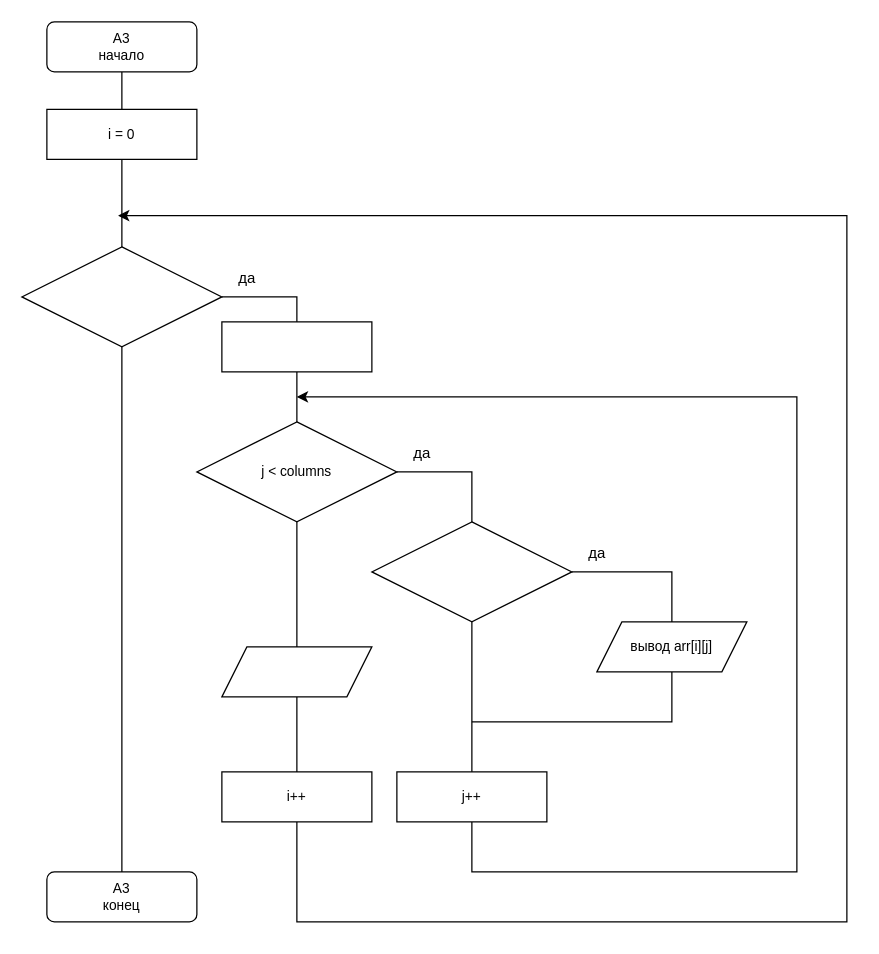
Some shapes in this 879 by 954 pixel diagram are drawn without their labels. The shapes that lost their labels are listed below. From the top down, each one's centre as x and y in pixels, then its label:
At point 121,296: "i < rows".
At point 296,346: "j = 0".
At point 471,571: "arr[rows-1][j]%2 != 0".
At point 296,671: "вывод \n".
